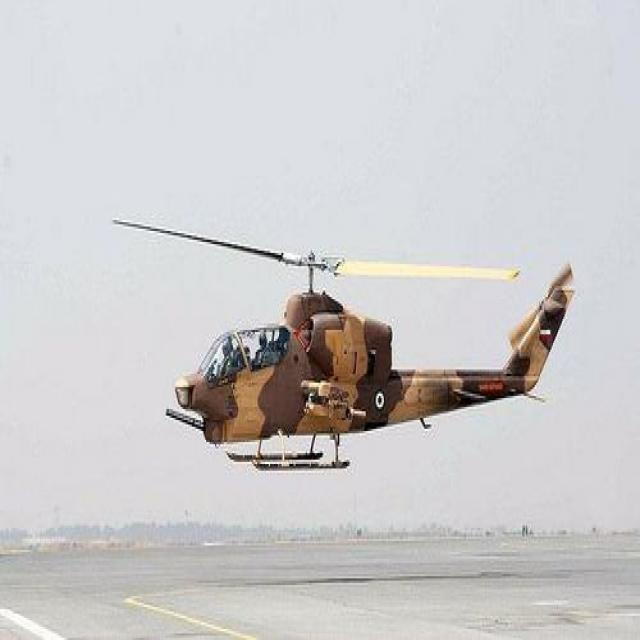MIL_HELO: (107, 218, 612, 479)
